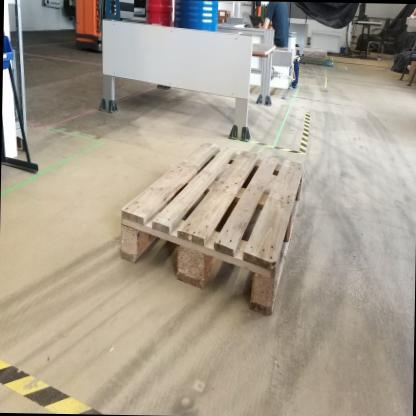BoxFace: (116, 133, 311, 328)
